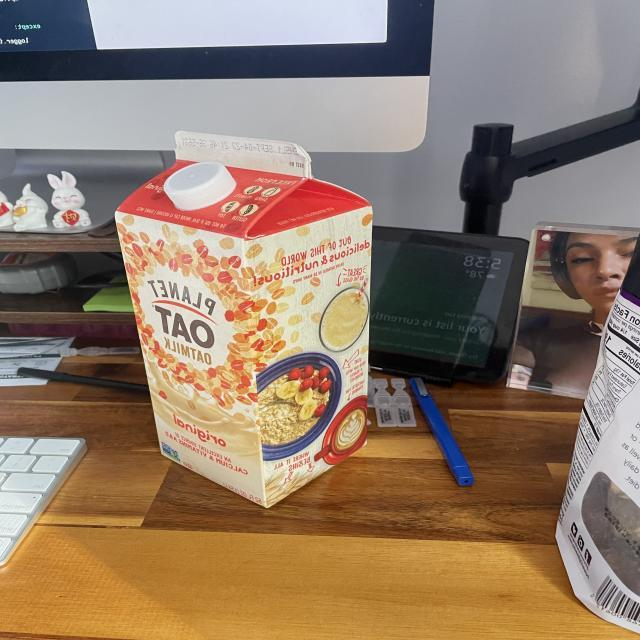Planet Oat Original: (111, 129, 378, 512)
